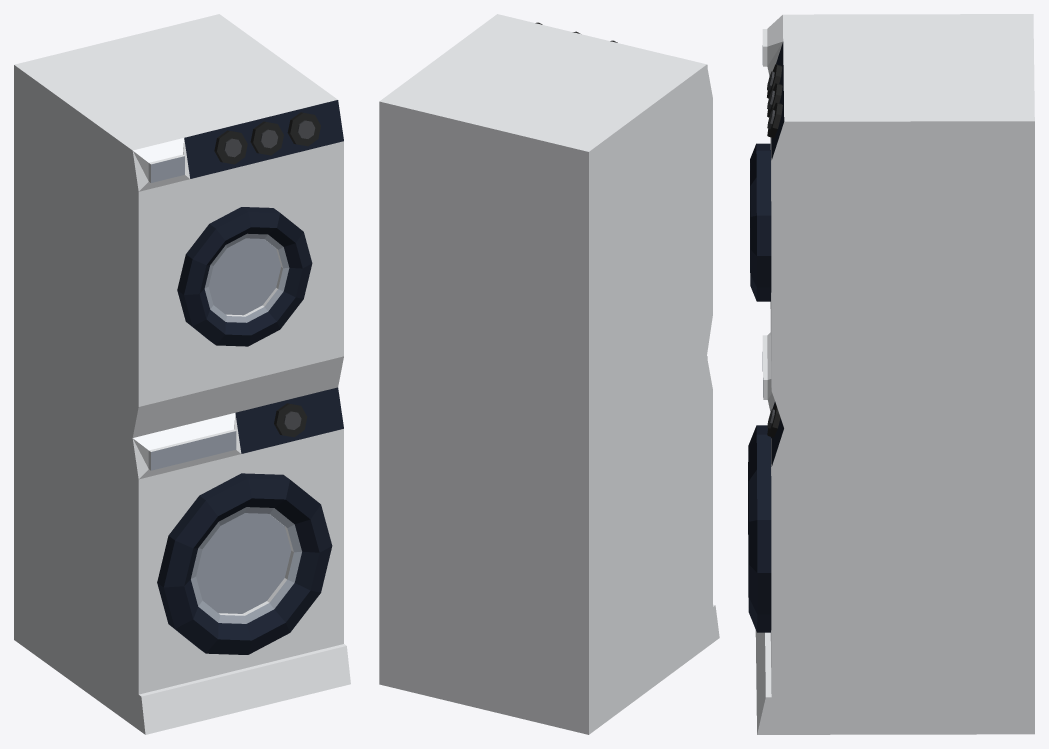
The model's file is Accesories_Washing_MachineDrier.glb.
3 renders of one model, left to right at view 1: azimuth 30°, elevation 25°; view 2: azimuth 150°, elevation 25°; view 3: azimuth 270°, elevation 25°, orthographic. The views are drawn at different scales.
Visible parts, largest first — view 1: Accesories_Washing_MachineDrier; view 2: Accesories_Washing_MachineDrier; view 3: Accesories_Washing_MachineDrier.
Part boxes in pixels (box(x1,y1,x2,y2)): Accesories_Washing_MachineDrier: box(14, 14, 350, 734); Accesories_Washing_MachineDrier: box(379, 14, 719, 734); Accesories_Washing_MachineDrier: box(748, 14, 1034, 734).
Size of the model in its own units: 0.6035 by 1.6 by 0.6782.
1 material, 1 textured.
